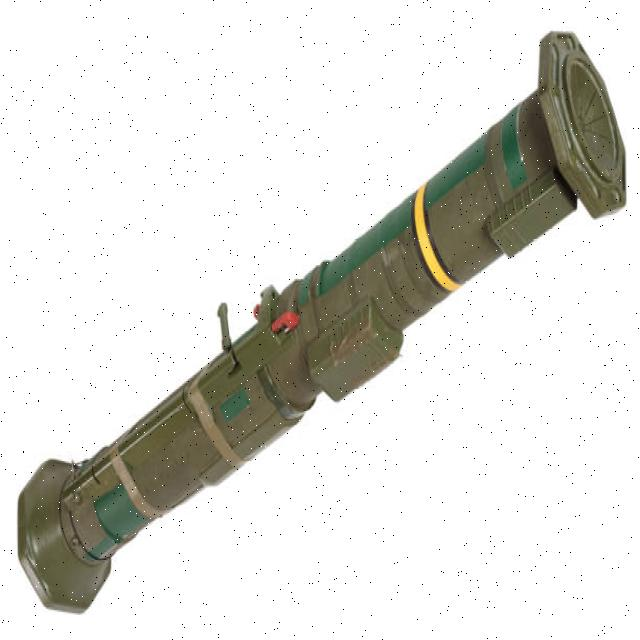bazooka: (16, 15, 638, 628)
